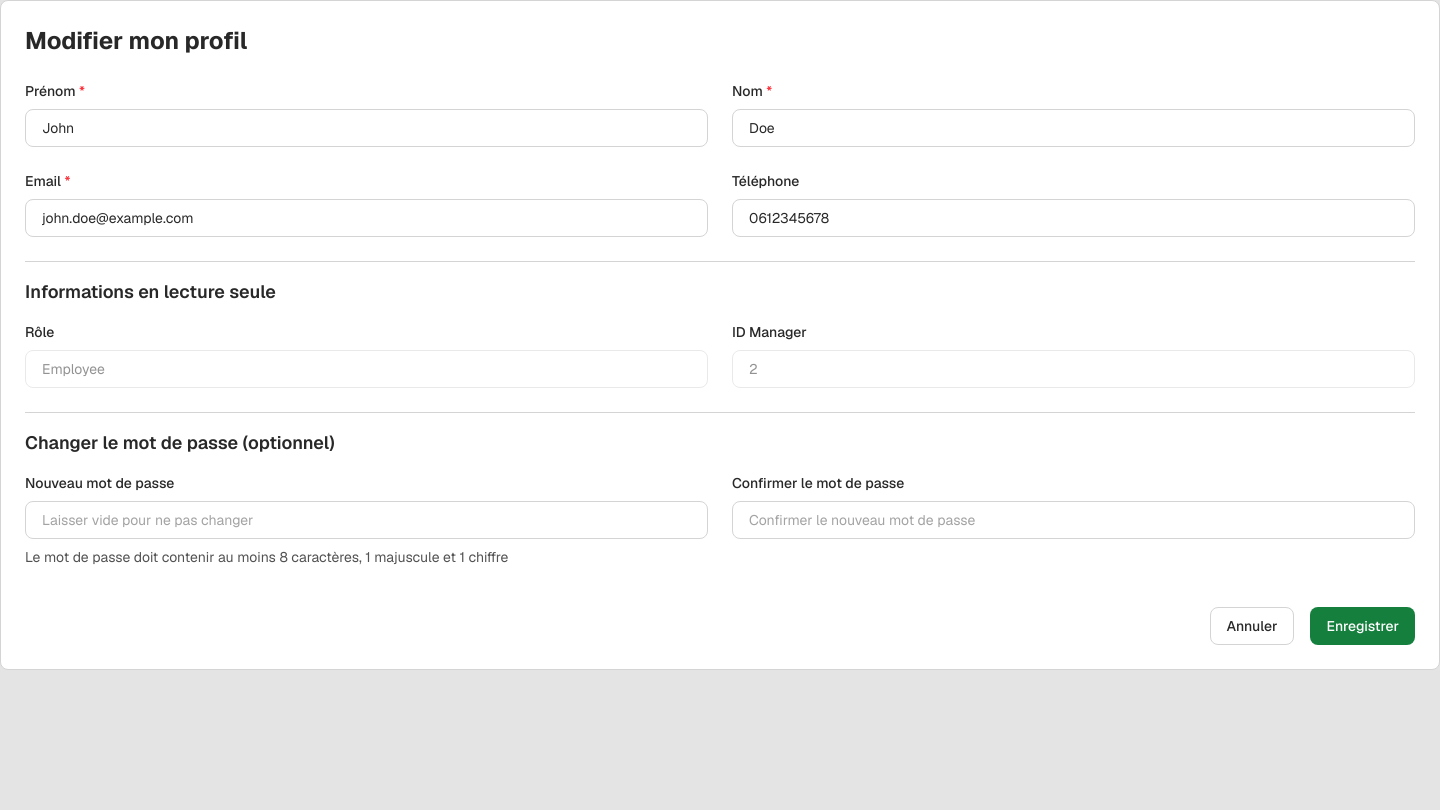
ProfileEditForm › Form Validation - Required Fields › should show error when surname is empty
Clear the field showing "Doe": (1074, 128) [732,109,1415,147]
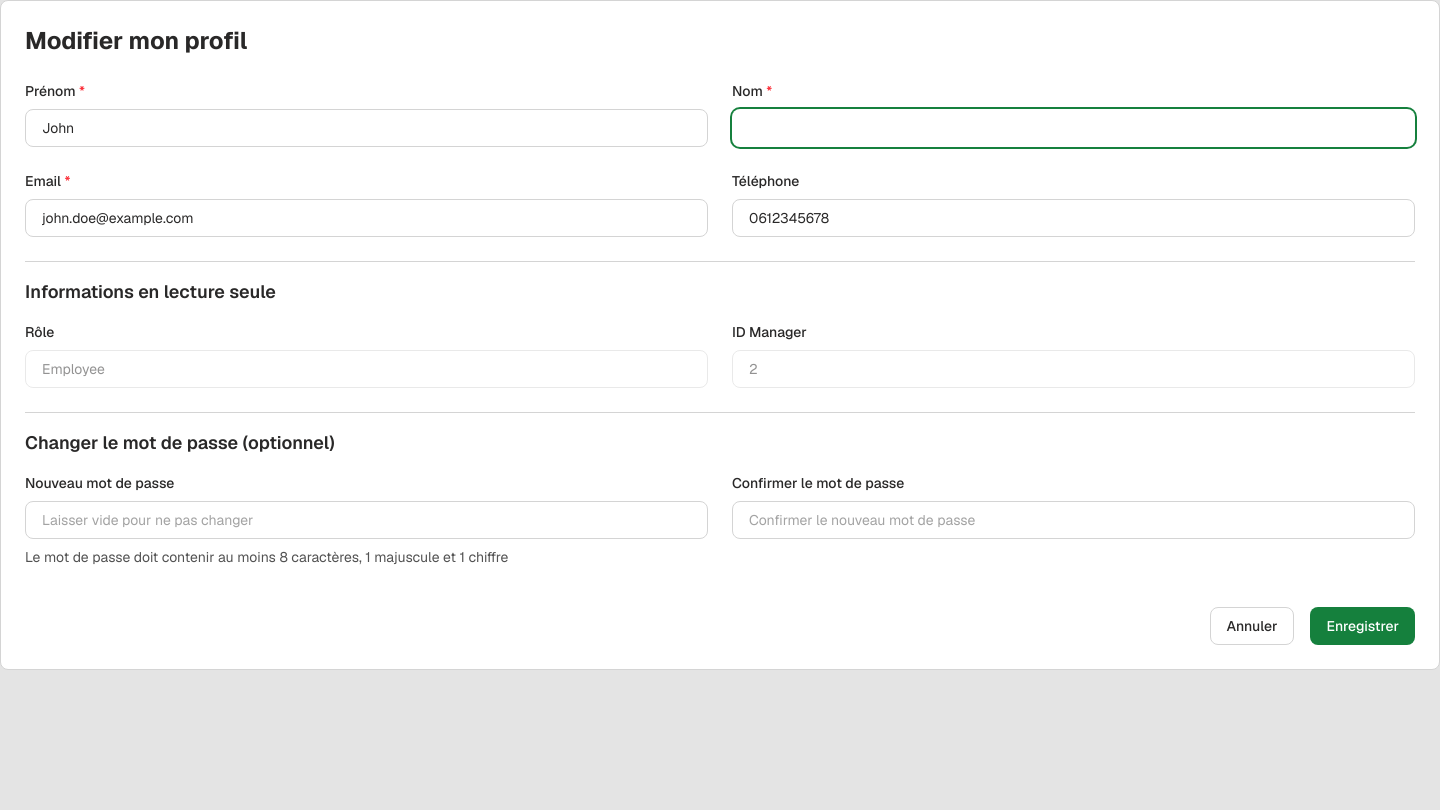
Click the button "Enregistrer": (1363, 626) [1310,607,1415,645]
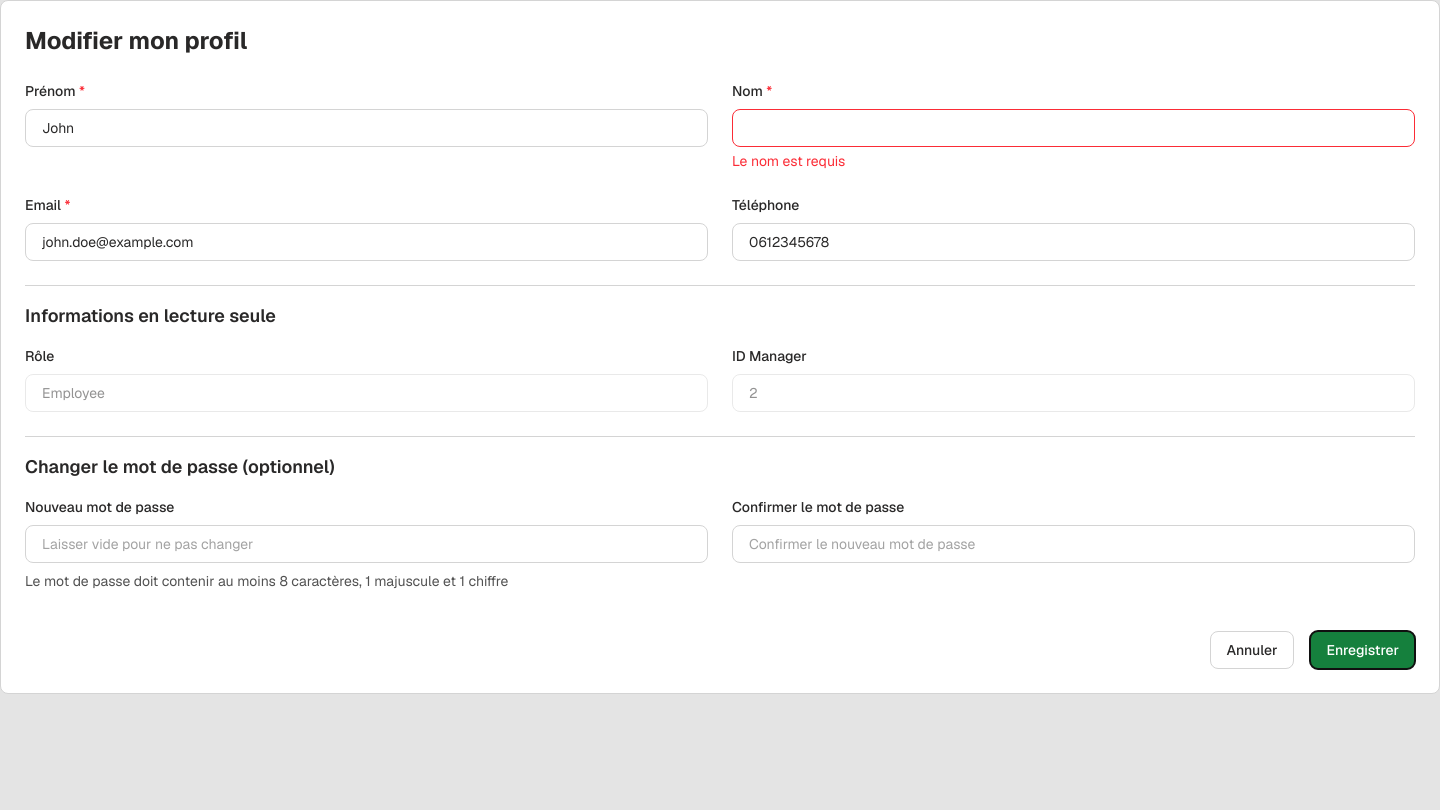
Expected: the text "Le nom est requis" is shown, [732,152,845,170]
